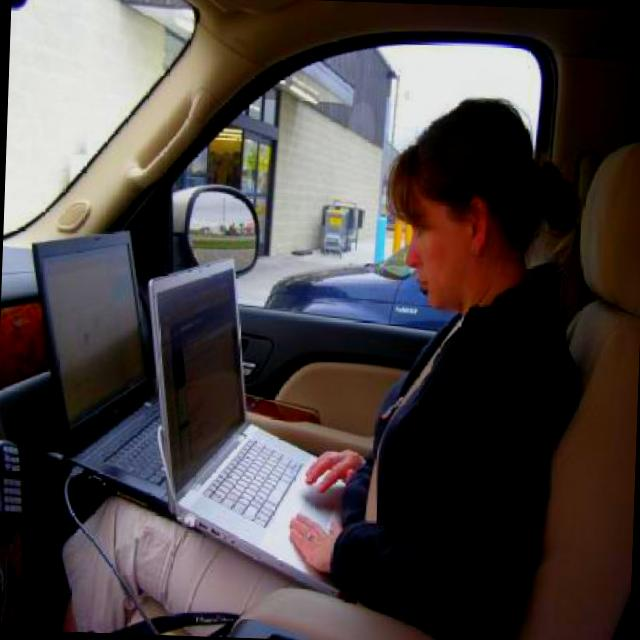Person: (57, 79, 600, 640)
